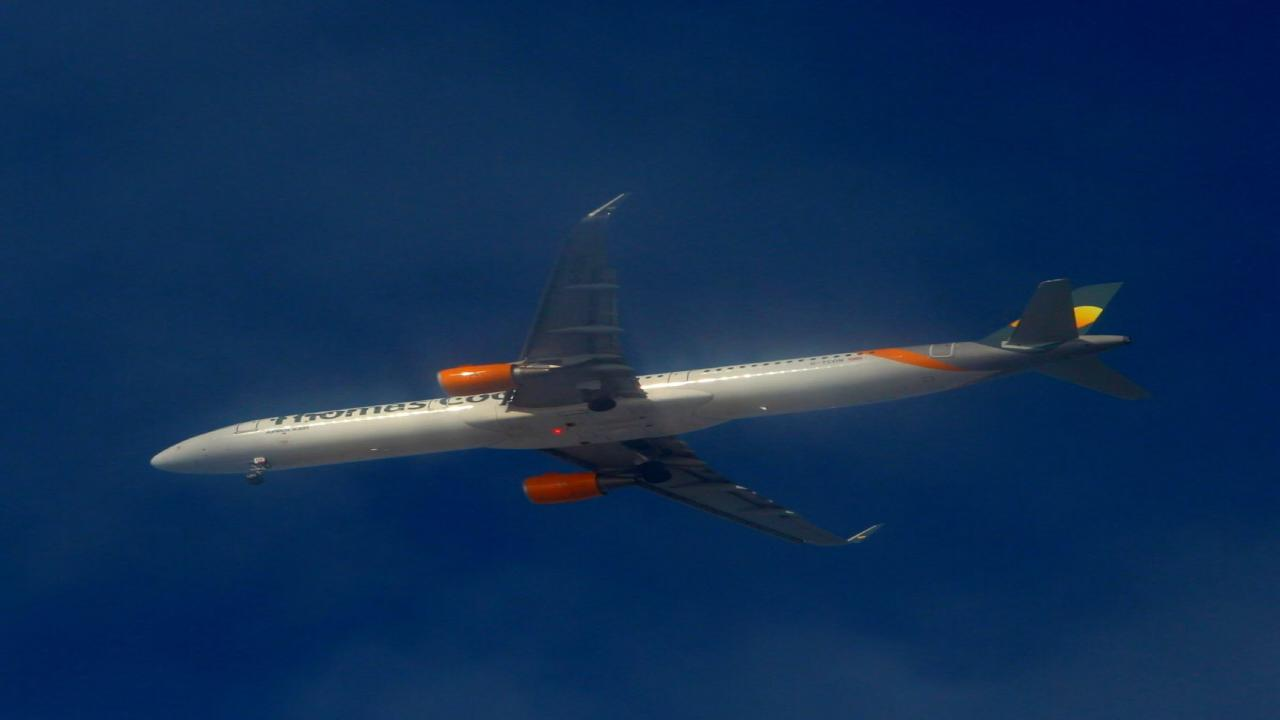Airplane: (122, 173, 1171, 567)
